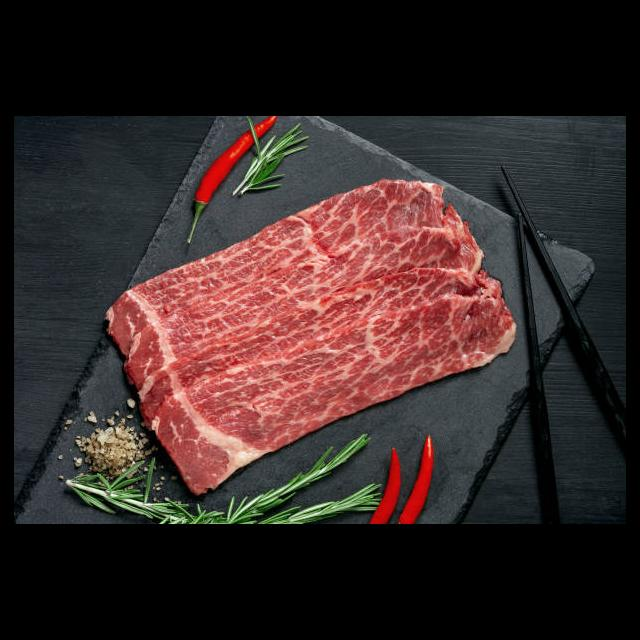beef: (107, 174, 518, 495)
